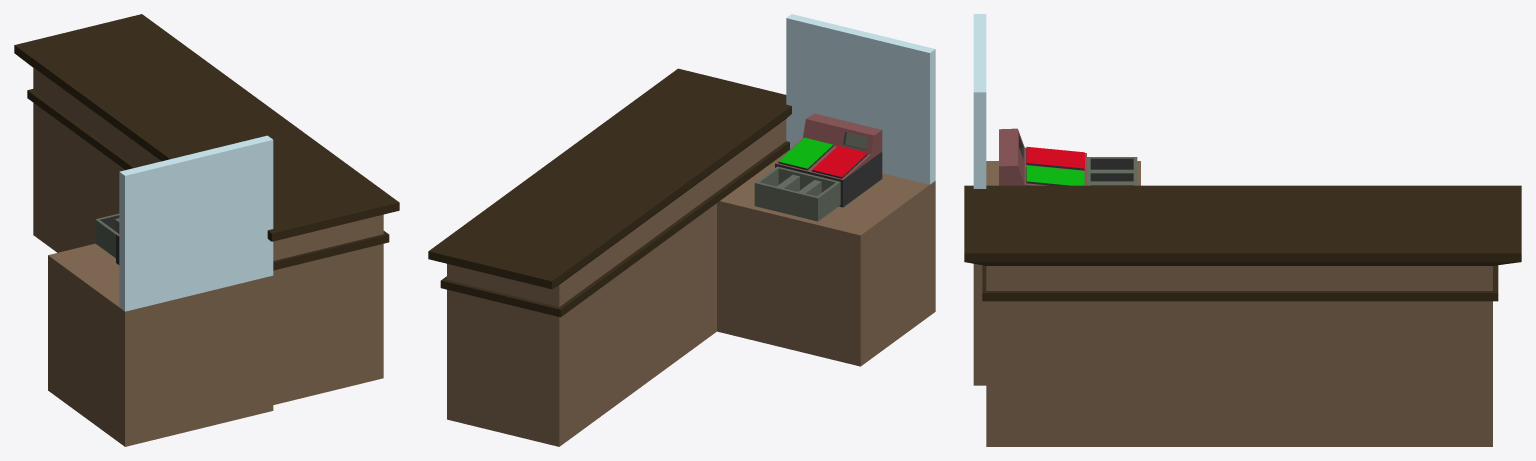
File: counter.glb
3 views of the same model, side by side, from view 1: azimuth 30°, elevation 25°; view 2: azimuth 150°, elevation 25°; view 3: azimuth 270°, elevation 25° (orthographic). The views are drawn at different scales.
Parts seen in each view (by area): view 1: Cube, Cube.001; view 2: Cube, Cube.001; view 3: Cube, Cube.001.
Part boxes in pixels (x1,y1,x2,y2): Cube: (14,14,399,446); Cube.001: (95,213,119,264); Cube: (428,14,935,446); Cube.001: (754,113,882,221); Cube: (964,14,1521,446); Cube.001: (999,128,1137,185).
Size of the model in its own units: 7.68 by 7.37 by 12.69.
